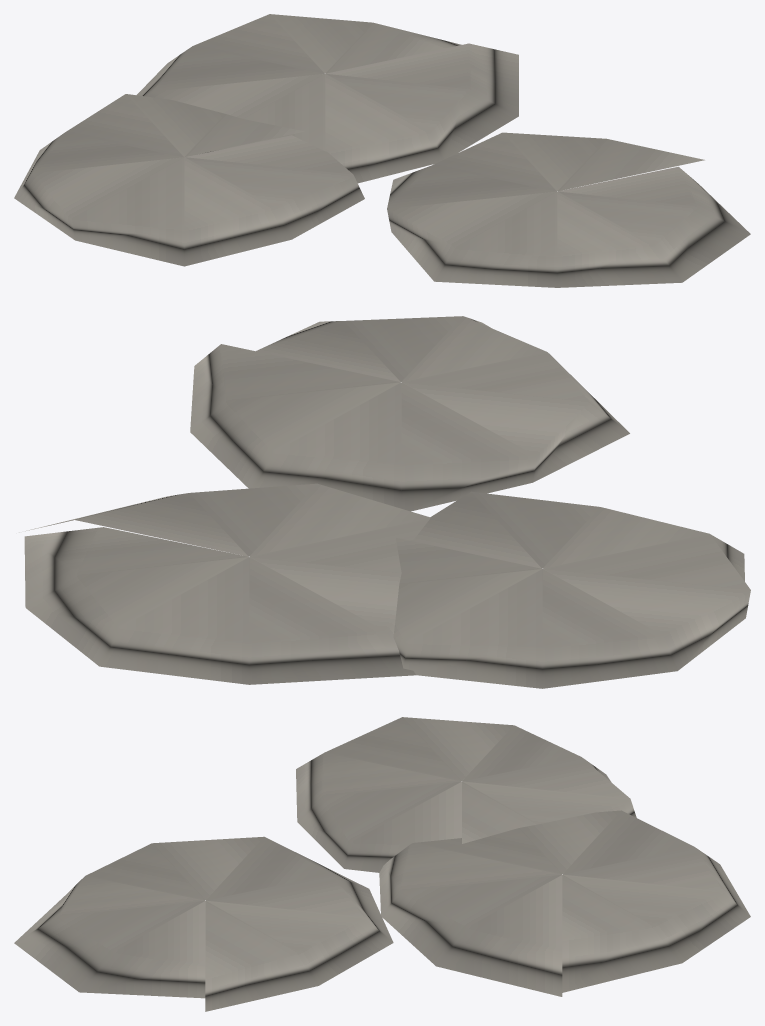
The model's file is path-0.gltf.
The picture shows the model from 3 angles, top to bottom: view 1: azimuth 30°, elevation 25°; view 2: azimuth 150°, elevation 25°; view 3: azimuth 270°, elevation 25°; orthographic projection. The views are drawn at different scales.
Bounding box in the file's own units: 1.24 × 0.06 × 1.42.
Materials: 1 (1 with a texture image).
